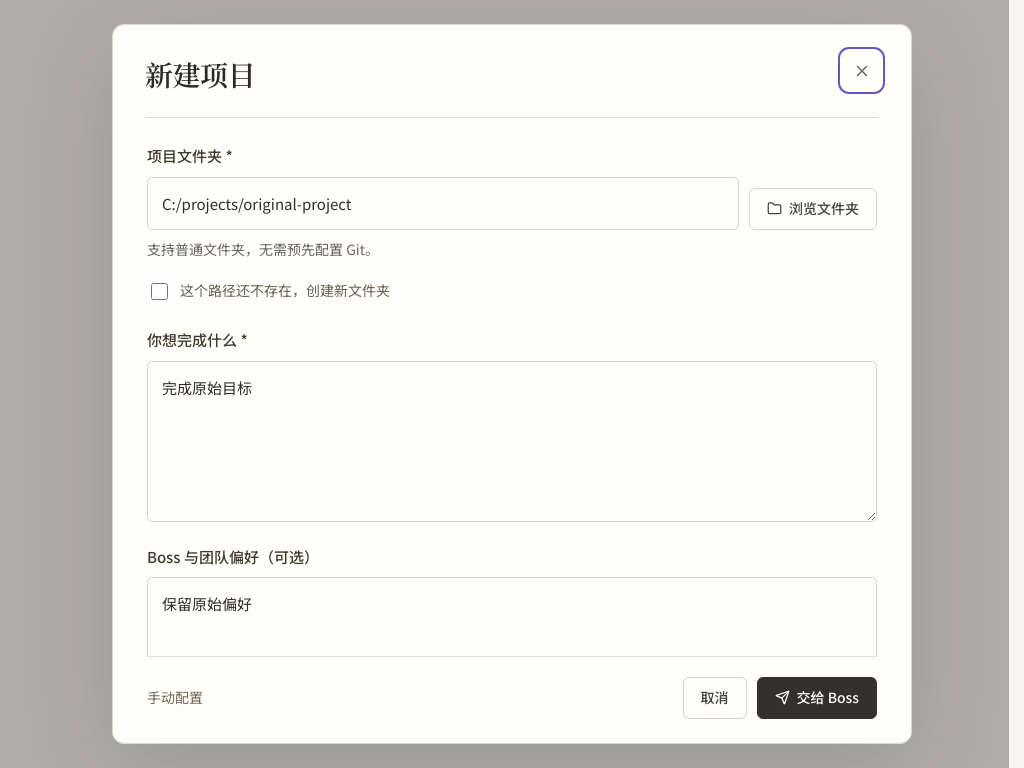
clears an old error when editing and reopens an empty address through the API
Click the button "浏览文件夹" at (813, 208), box [749,188,877,230]
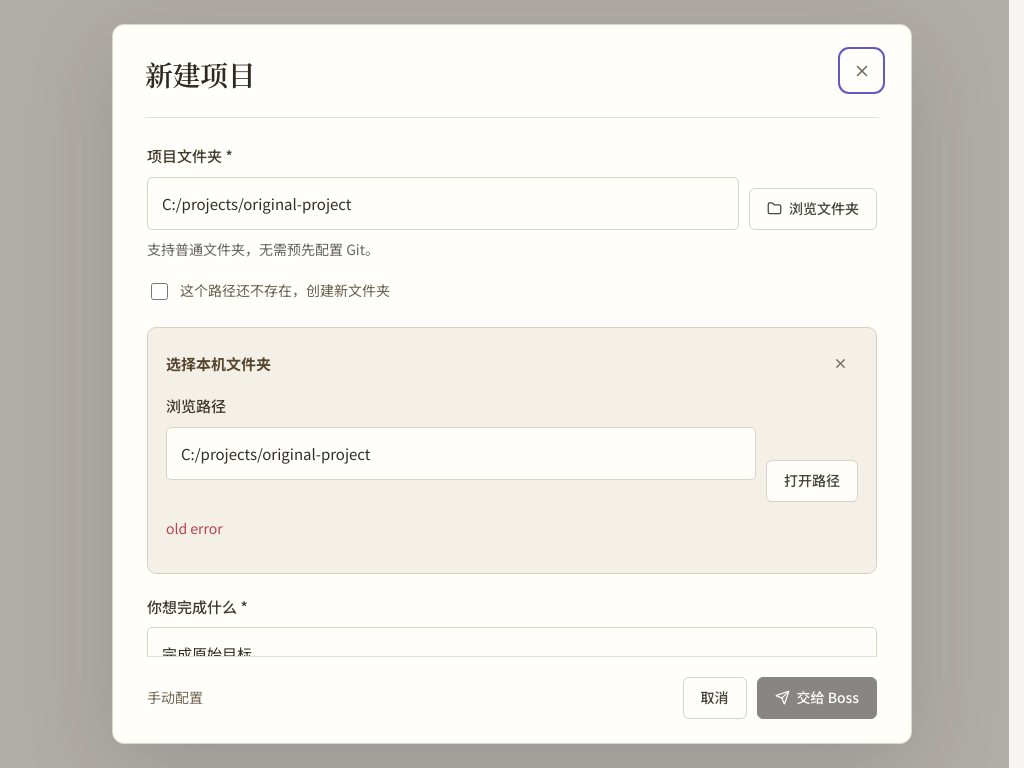
Expected: the message "old error" is shown, [166,518,223,538]
Clear the field labelled "浏览路径" at (461, 453), box [166,427,756,480]
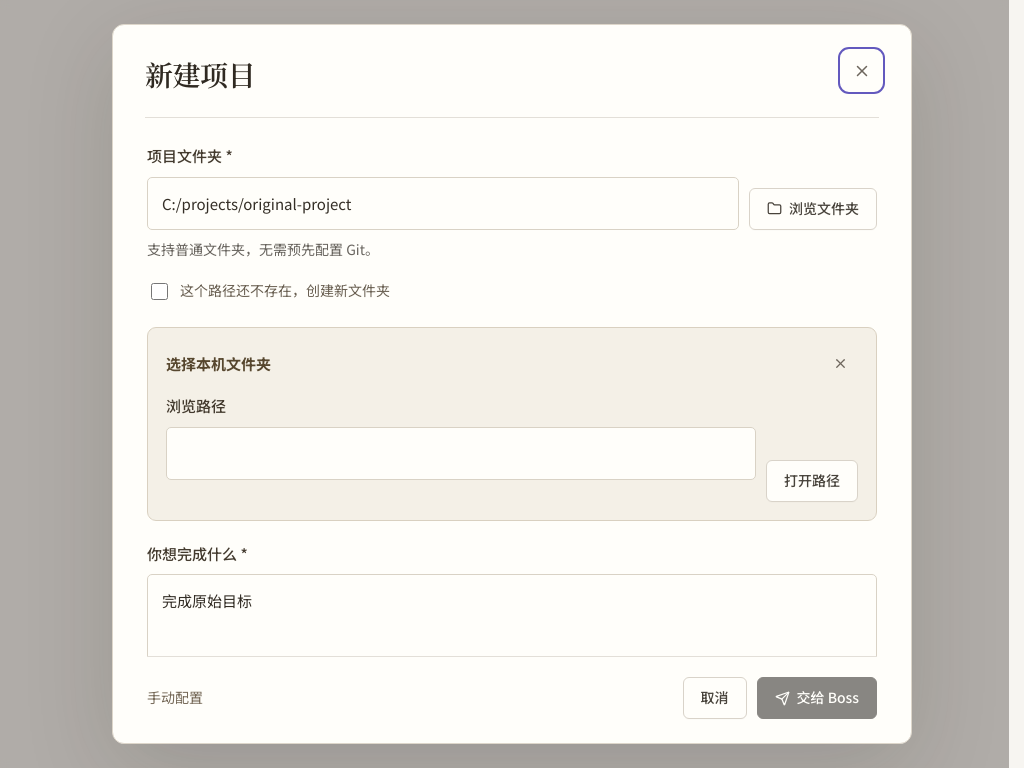
Expected: the message "old error" is gone
Click the button "打开路径" at (812, 481), box [766,460,858,502]
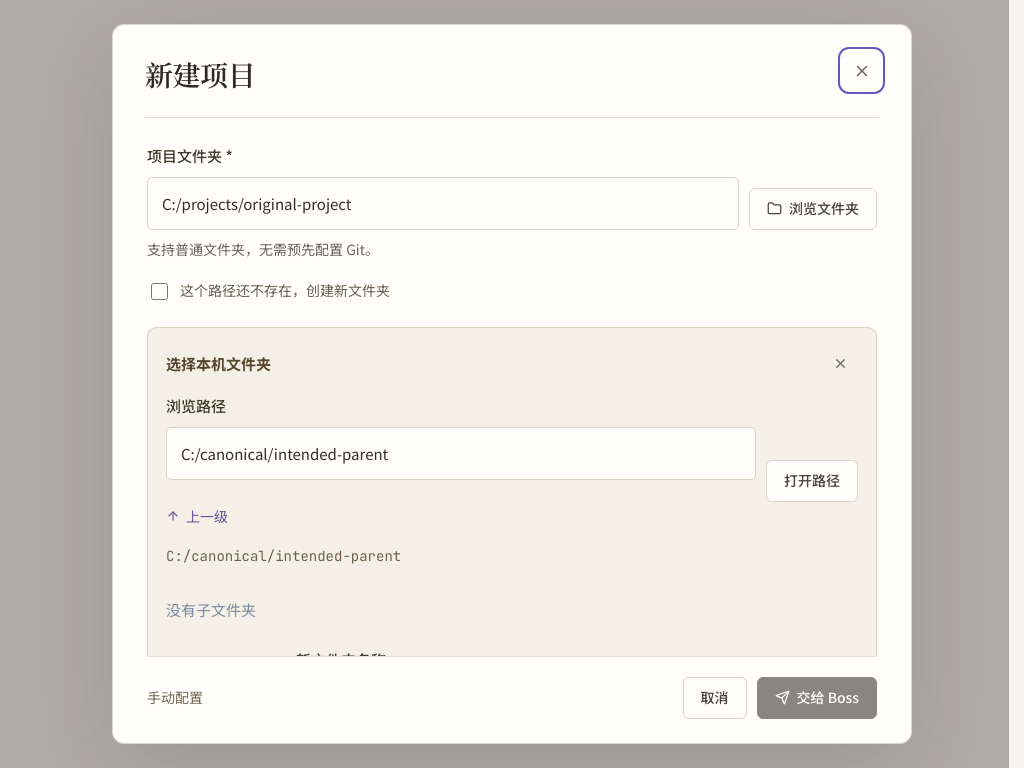
Expected: the button "选择此文件夹" is shown, [166,714,286,743]
Expected: the field labelled "浏览路径" holds "C:/canonical/intended-parent", [166,427,756,480]
